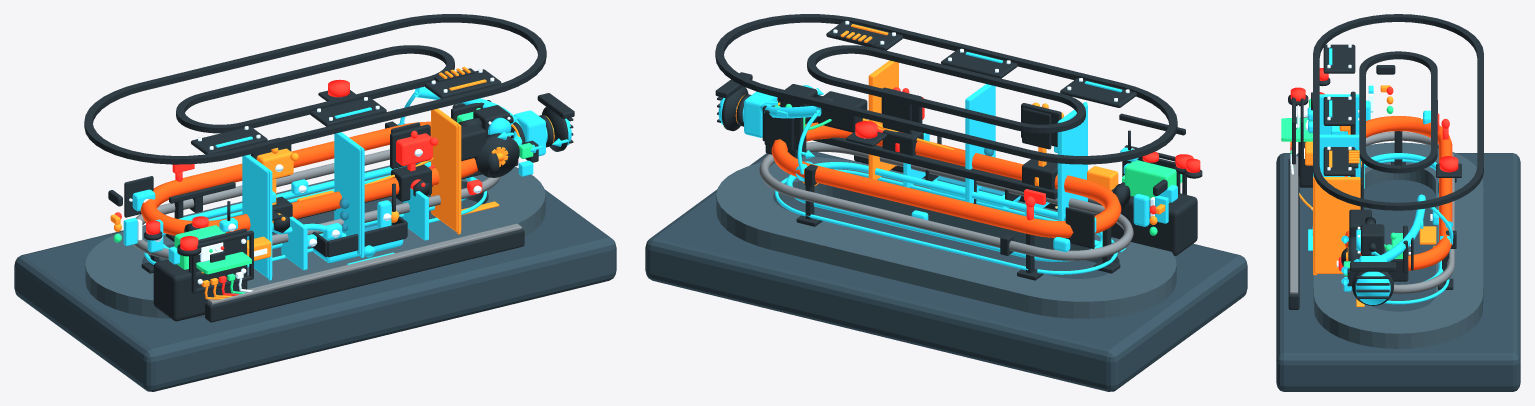
File: utility-tunnel-annular-v08.glb
3 renders of one model, left to right at view 1: azimuth 30°, elevation 25°; view 2: azimuth 150°, elevation 25°; view 3: azimuth 270°, elevation 25°, orthographic. The views are drawn at different scales.
Visible parts, largest first — view 1: MESH_BASE_01, MESH_RING_FLOOR, MESH_RING_OUTER_RAIL, MESH_PIPE_G01, MESH_CABLE_DUCT_01, MESH_RING_INNER_RAIL, MESH_CTRL_DRY_BAY, MESH_PIPE_UTILITY_01, GEO_ZONE_C_RIB, GEO_ZONE_B_RIB, GEO_CABLE_DUCT_COVER, GEO_ZONE_A_RIB (+21 smaller); view 2: MESH_BASE_01, MESH_RING_FLOOR, MESH_PIPE_G01, MESH_RING_OUTER_RAIL, MESH_PIPE_UTILITY_01, MESH_RING_INNER_RAIL, MESH_PIPE_UTILITY_02, MESH_CTRL_DRY_BAY, MESH_GAS_SENSOR_RAIL_C01, MESH_LED_RING, GEO_ZONE_A_RIB, GEO_ZONE_B_RIB (+17 smaller); view 3: MESH_BASE_01, MESH_RING_FLOOR, MESH_RING_OUTER_RAIL, GEO_ZONE_C_RIB, MESH_PIPE_G01, MESH_RING_INNER_RAIL, MESH_PIPE_UTILITY_01, GEO_CABLE_DUCT_COVER, MESH_ROOF_HATCH_A, MESH_ROOF_HATCH_B, GEO_ZONE_B_RIB, MESH_ROOF_HATCH_C (+19 smaller).
Boxes of the visible parts, bbox=[...] form: MESH_BASE_01: bbox=[14, 189, 616, 391]; MESH_RING_FLOOR: bbox=[85, 161, 545, 318]; MESH_RING_OUTER_RAIL: bbox=[84, 14, 546, 164]; MESH_PIPE_G01: bbox=[140, 121, 477, 235]; MESH_CABLE_DUCT_01: bbox=[205, 229, 524, 322]; MESH_RING_INNER_RAIL: bbox=[176, 45, 454, 133]; MESH_CTRL_DRY_BAY: bbox=[153, 259, 247, 321]; MESH_PIPE_UTILITY_01: bbox=[133, 149, 500, 258]; GEO_ZONE_C_RIB: bbox=[431, 108, 461, 232]; GEO_ZONE_B_RIB: bbox=[334, 132, 364, 255]; GEO_CABLE_DUCT_COVER: bbox=[207, 223, 521, 304]; GEO_ZONE_A_RIB: bbox=[242, 154, 272, 278]; MESH_BASE_01: bbox=[645, 152, 1247, 391]; MESH_RING_FLOOR: bbox=[716, 157, 1176, 318]; MESH_PIPE_G01: bbox=[771, 122, 1121, 237]; MESH_RING_OUTER_RAIL: bbox=[715, 14, 1177, 164]; MESH_PIPE_UTILITY_01: bbox=[759, 141, 1133, 260]; MESH_RING_INNER_RAIL: bbox=[807, 45, 1085, 133]; MESH_PIPE_UTILITY_02: bbox=[786, 162, 1102, 261]; MESH_CTRL_DRY_BAY: bbox=[1111, 182, 1197, 255]; MESH_GAS_SENSOR_RAIL_C01: bbox=[813, 137, 1057, 199]; MESH_LED_RING: bbox=[775, 169, 1117, 274]; GEO_ZONE_A_RIB: bbox=[1057, 103, 1087, 220]; GEO_ZONE_B_RIB: bbox=[965, 84, 995, 203]; MESH_BASE_01: bbox=[1276, 153, 1520, 391]; MESH_RING_FLOOR: bbox=[1313, 142, 1483, 348]; MESH_RING_OUTER_RAIL: bbox=[1313, 14, 1483, 210]; GEO_ZONE_C_RIB: bbox=[1314, 177, 1360, 273]; MESH_PIPE_G01: bbox=[1345, 116, 1452, 270]; MESH_RING_INNER_RAIL: bbox=[1359, 51, 1437, 173]; MESH_PIPE_UTILITY_01: bbox=[1346, 131, 1454, 293]; GEO_CABLE_DUCT_COVER: bbox=[1289, 156, 1298, 293]; MESH_ROOF_HATCH_A: bbox=[1323, 44, 1355, 73]; MESH_ROOF_HATCH_B: bbox=[1323, 97, 1355, 125]; GEO_ZONE_B_RIB: bbox=[1319, 134, 1360, 177]; MESH_ROOF_HATCH_C: bbox=[1323, 147, 1355, 175].
Size of what is drawn, in the model's own units: 1 by 0.42 by 0.5.
